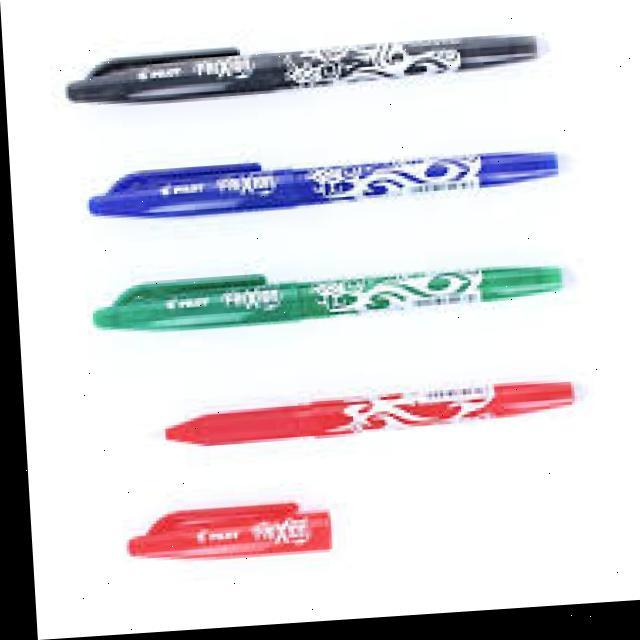pen: (63, 26, 550, 124), (84, 259, 562, 338), (82, 144, 560, 223), (136, 384, 584, 454)
